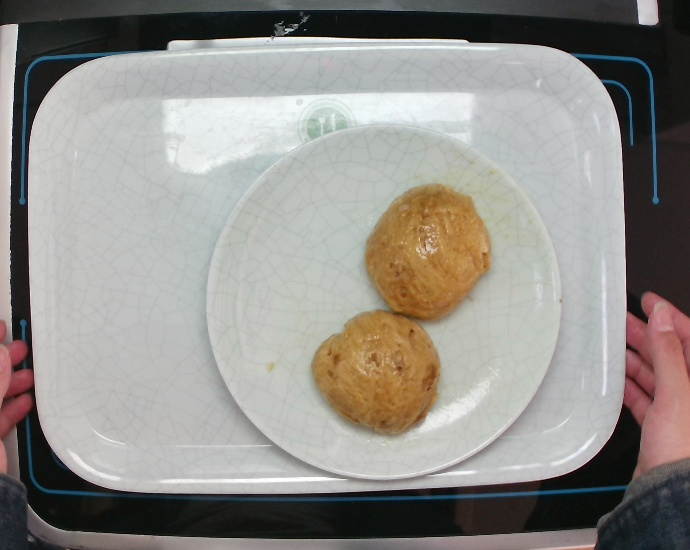JYsf-Da_Yuan_Pan: (204, 120, 568, 481)
